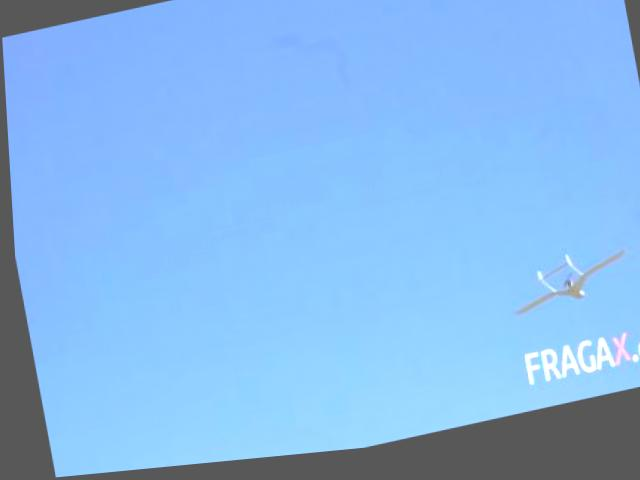uav: (493, 245, 638, 342)
